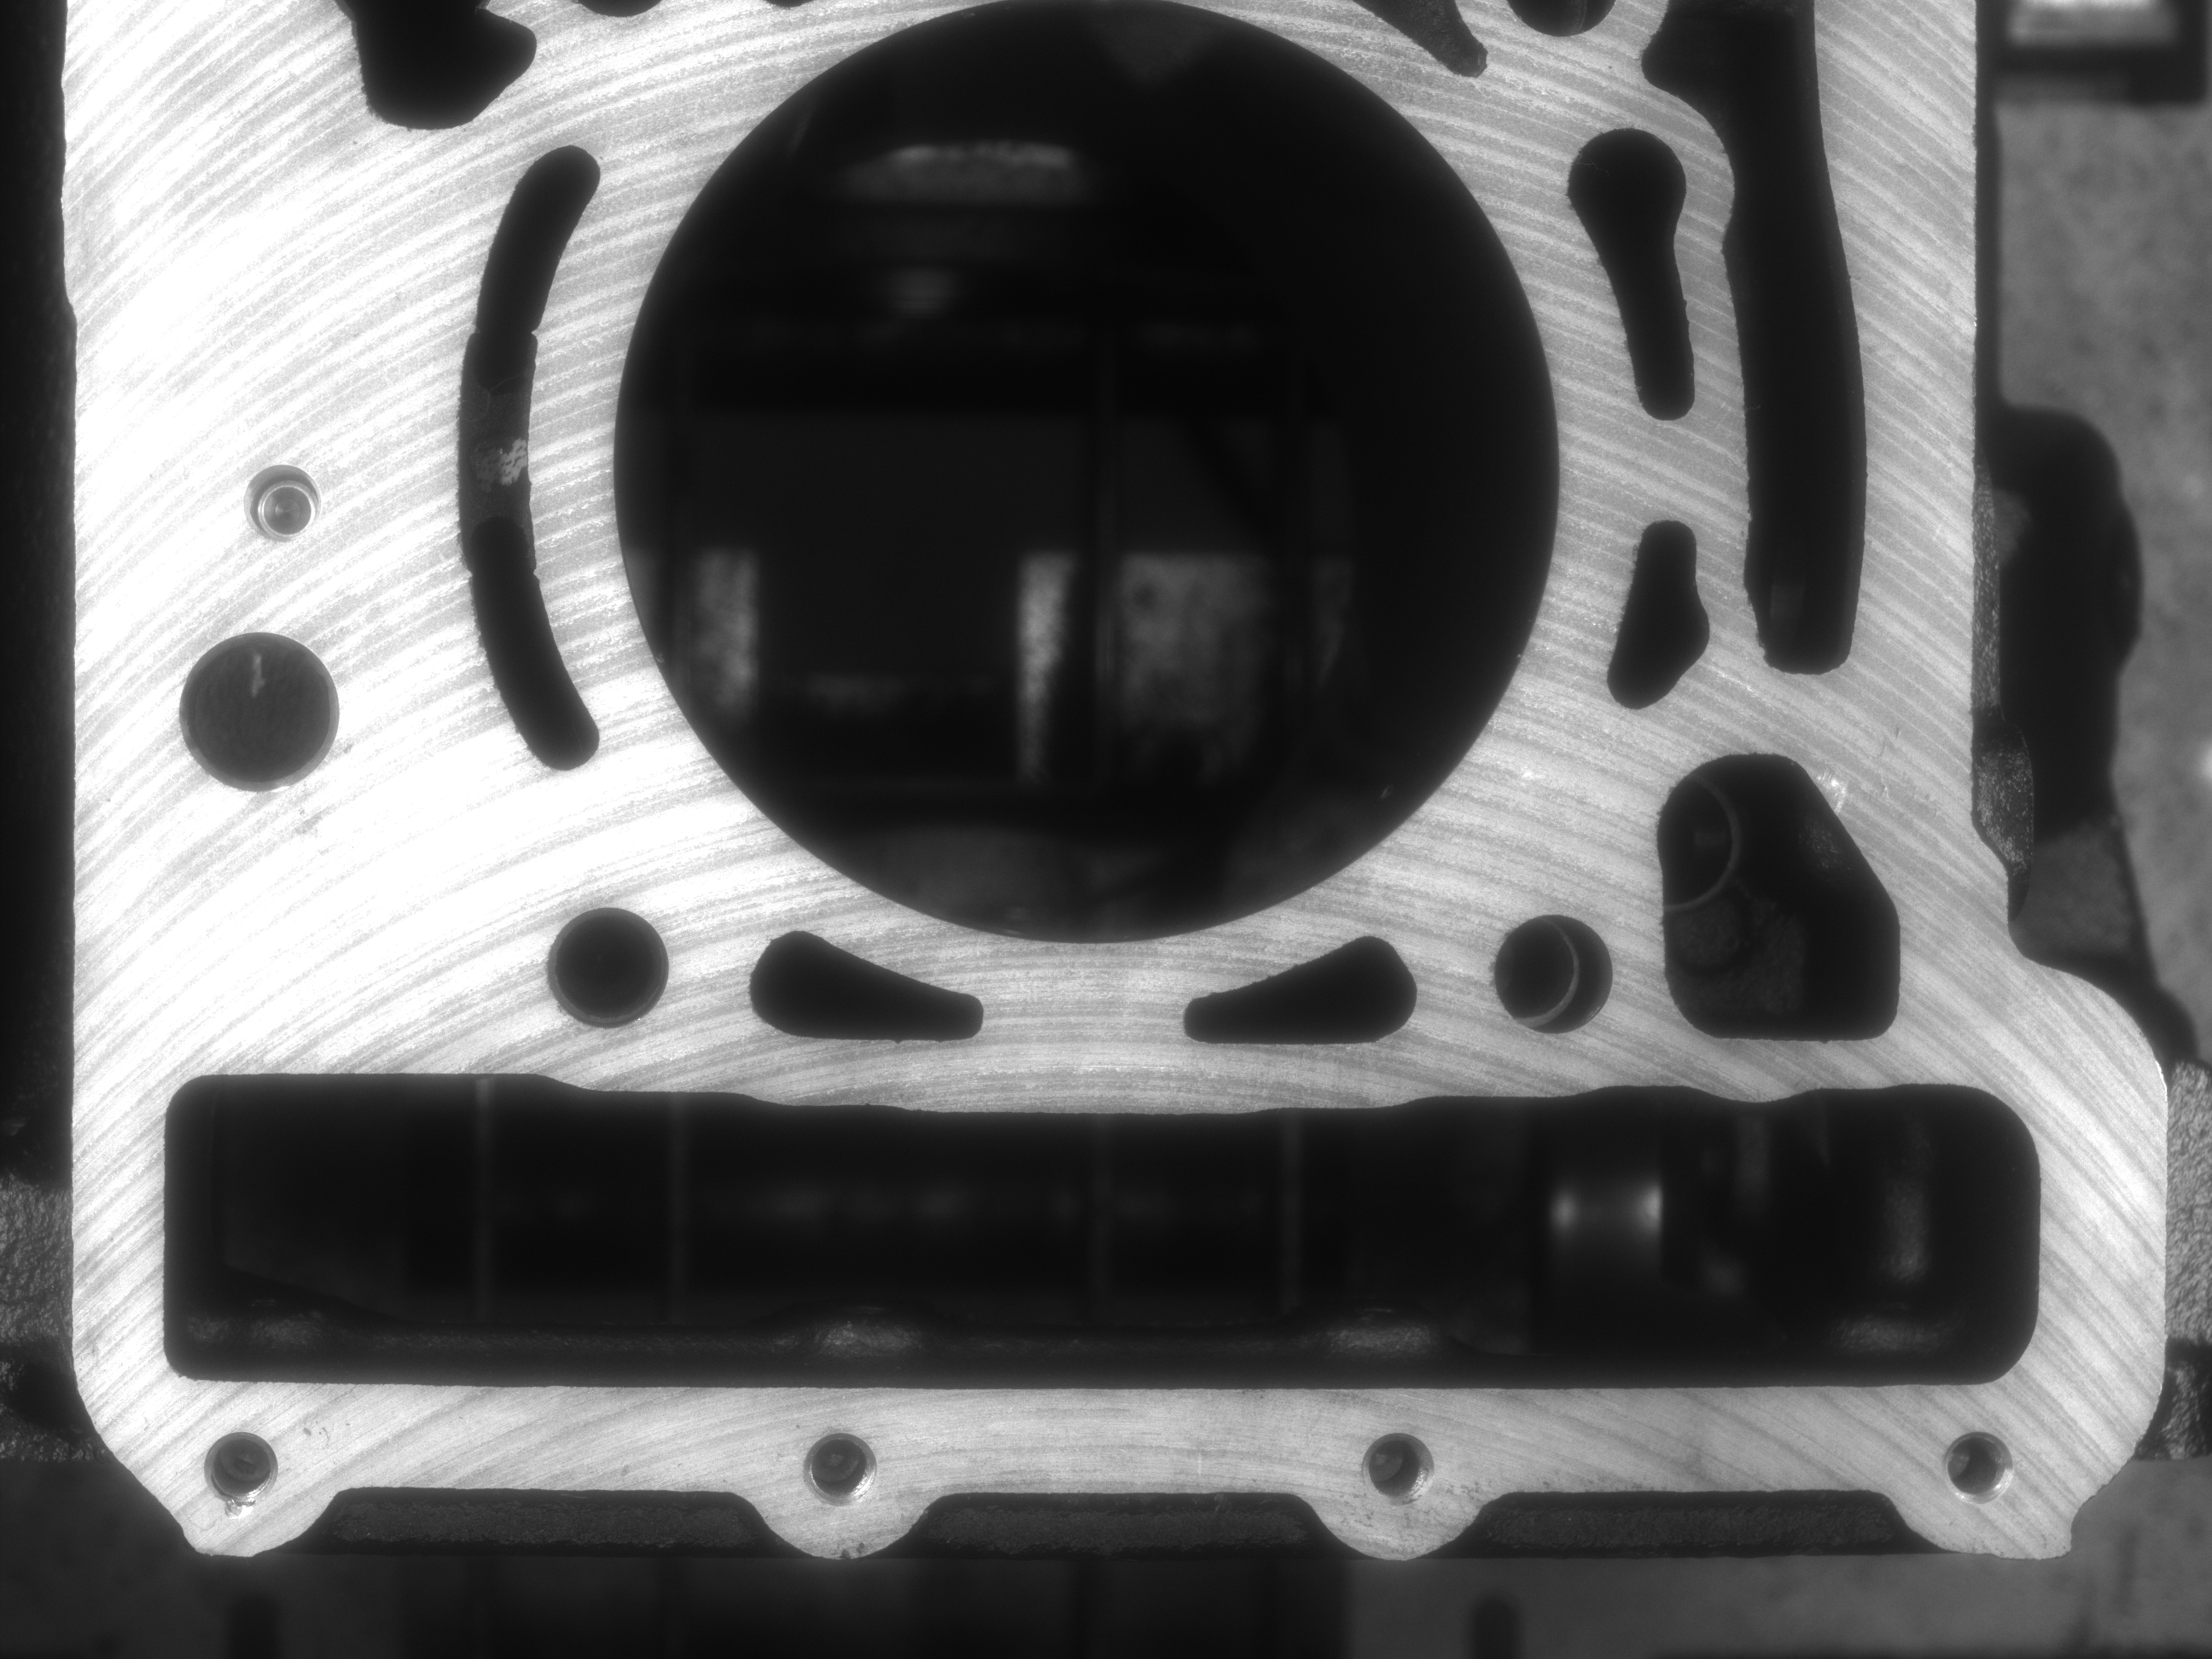shrinkage: (219, 1483, 260, 1514)
